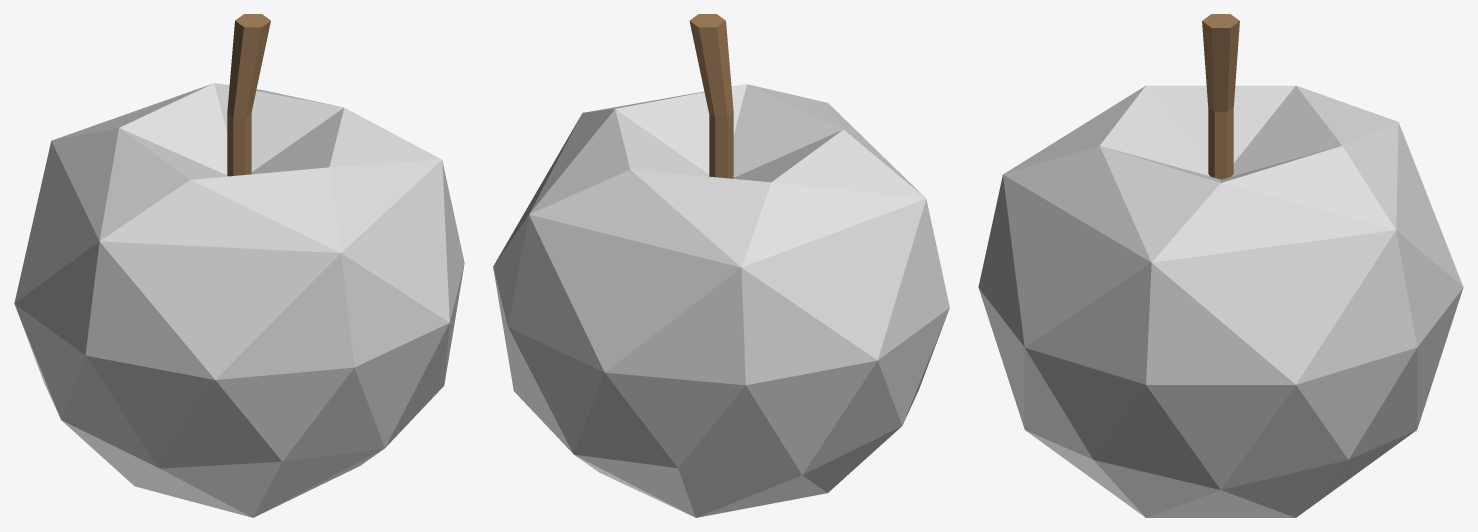
File: Apple.fbx
3 views of the same model, side by side, from view 1: azimuth 30°, elevation 25°; view 2: azimuth 150°, elevation 25°; view 3: azimuth 270°, elevation 25° (orthographic). The views are drawn at different scales.
Parts seen in each view (by area): view 1: Apple; view 2: Apple; view 3: Apple.
Boxes of the visible parts, x1=… form: Apple: x1=14, y1=14, x2=464, y2=517; Apple: x1=493, y1=14, x2=949, y2=517; Apple: x1=978, y1=14, x2=1463, y2=517.
Size of the model in its own units: 10.34 by 12.16 by 10.87.
